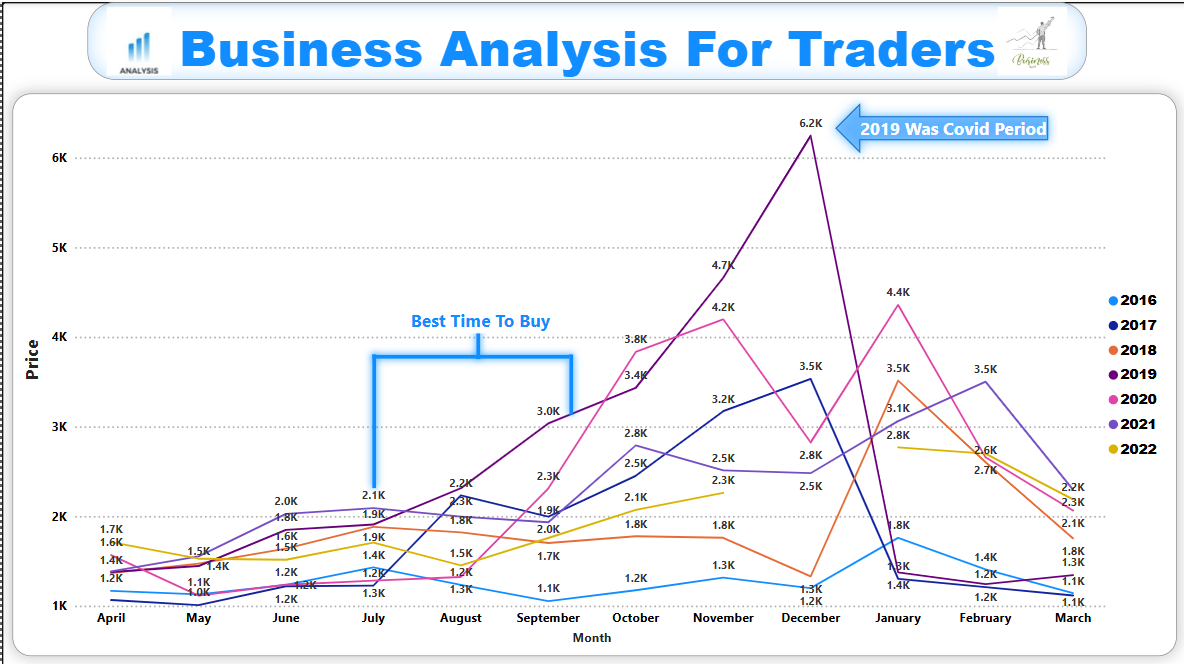

This screenshot's page, from the dashboard's own definition file:
{"tool":"powerbi","page":{"name":"Page 1","canvas":[1280,720],"ordinal":0},"visuals":[{"type":"lineChart","fields":{"Category":["S2-OnionPriceIndia.Month"],"Y":["Sum(S2-OnionPriceIndia.2016)","Sum(S2-OnionPriceIndia.2017)","Sum(S2-OnionPriceIndia.2018)","Sum(S2-OnionPriceIndia.2019)","Sum(S2-OnionPriceIndia.2020)","Sum(S2-OnionPriceIndia.2021)","Sum(S2-OnionPriceIndia.2022)"]},"box":[11.3,98.8,1256.5,607.2],"z":0},{"type":"textbox","title":"Business Analysis For Traders","box":[92.3,0,1078.4,84.2],"z":1000},{"type":"image","box":[1036.3,0,152.2,84.2],"z":2000},{"type":"image","box":[92.3,0,111.7,84.2],"z":3000},{"type":"shape","box":[268.8,372.4,266,160.3],"z":4000},{"type":"shape","box":[469.6,372.4,289.8,81],"z":5000},{"type":"shape","box":[391.9,191.1,229,383.8],"z":6000},{"type":"shape","box":[364.3,344.9,299.6,48.6],"z":7000},{"type":"textbox","title":"Best Time To Buy","box":[365.9,330.3,299.6,27.5],"z":8000},{"type":"shape","box":[889,98.8,251,75],"z":9000},{"type":"textbox","title":"2019 Was Covid Period","box":[922,123,293.1,58.3],"z":10000}]}

Visuals, with their boxes in screenshot pixels (x1, y1, x2, y2), scaled from the page's 1280x720 canvas onto the 1184x664 screenshot:
lineChart - S2-OnionPriceIndia.Month x Sum(S2-OnionPriceIndia.2016): l=10, t=91, r=1173, b=651
"Business Analysis For Traders" textbox: l=85, t=0, r=1083, b=78
image: l=959, t=0, r=1099, b=78
image: l=85, t=0, r=189, b=78
shape: l=249, t=343, r=495, b=491
shape: l=434, t=343, r=702, b=418
shape: l=363, t=176, r=574, b=530
shape: l=337, t=318, r=614, b=363
"Best Time To Buy" textbox: l=338, t=305, r=616, b=330
shape: l=822, t=91, r=1054, b=160
"2019 Was Covid Period" textbox: l=853, t=113, r=1124, b=167
